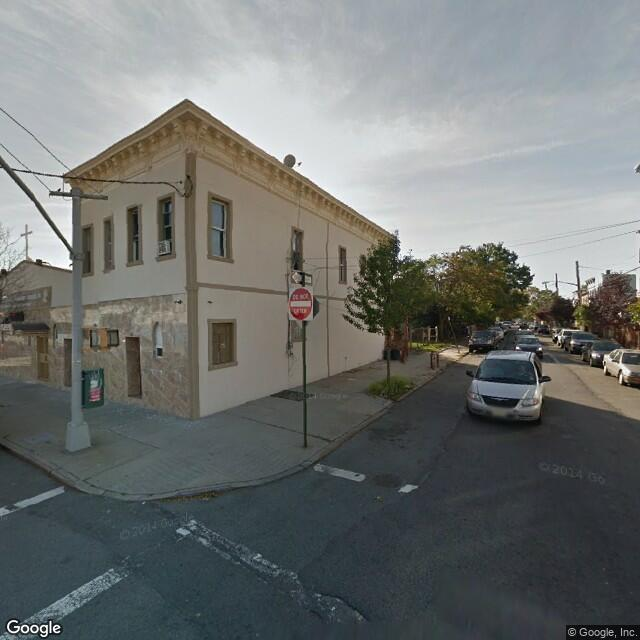litter: (309, 393, 320, 401), (141, 498, 148, 508), (374, 496, 379, 499)
